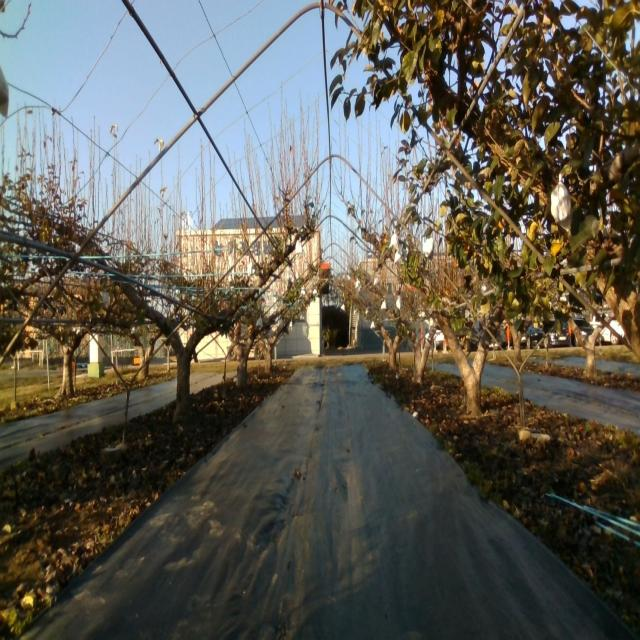pearbags: (550, 182, 573, 238), (423, 237, 434, 260)
